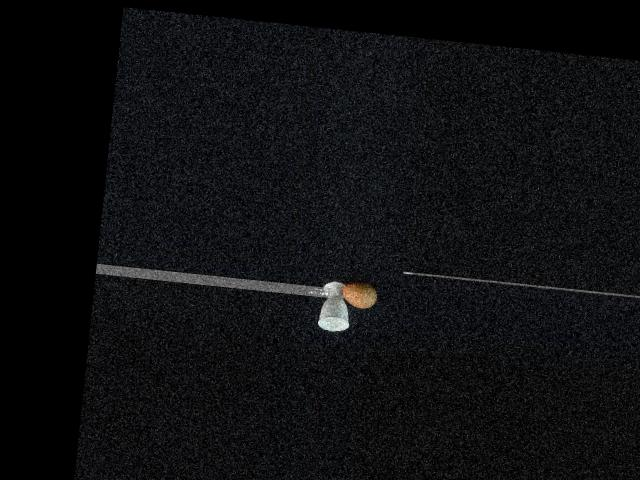egg: (340, 281, 377, 309)
